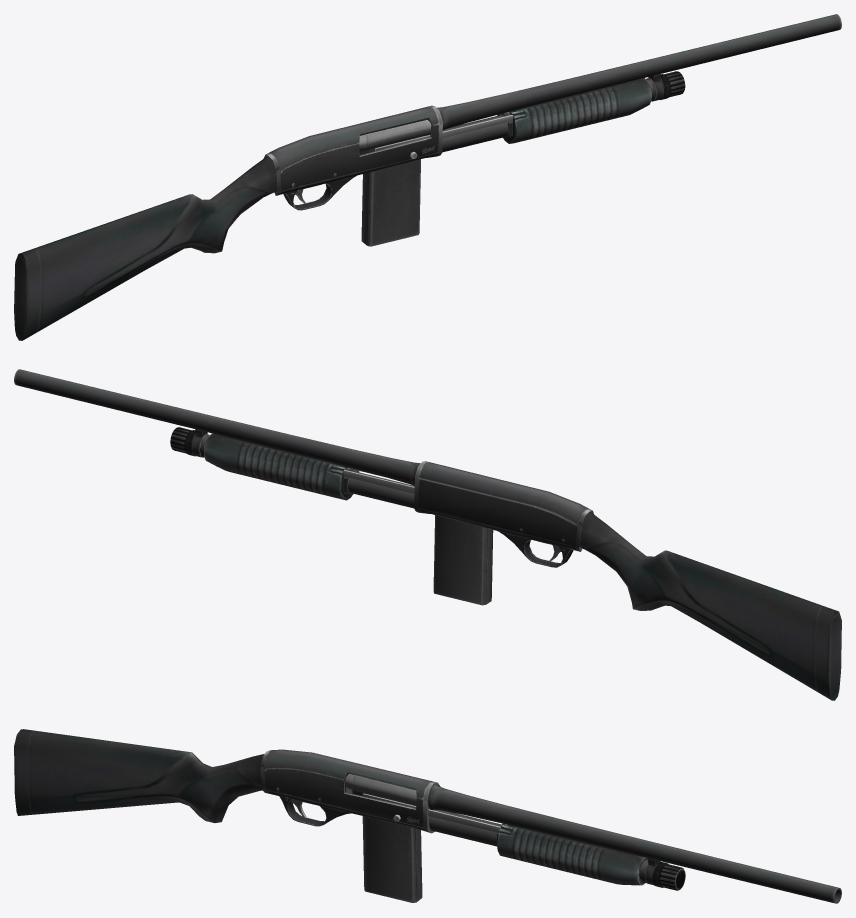
Rendered from Weapon_2005.fbx.
3 renders of one model, top to bottom at view 1: azimuth 30°, elevation 25°; view 2: azimuth 150°, elevation 25°; view 3: azimuth 330°, elevation 25°, orthographic.
Visible parts, largest first — view 1: MP_133K, MP_133K_fore_end, MP_133K_magazine; view 2: MP_133K, MP_133K_fore_end, MP_133K_magazine; view 3: MP_133K, MP_133K_fore_end, MP_133K_magazine.
Boxes of the visible parts, left/top/right/bottom form: MP_133K: left=14, top=14, right=841, bottom=340; MP_133K_fore_end: left=497, top=78, right=651, bottom=143; MP_133K_magazine: left=361, top=159, right=420, bottom=246; MP_133K: left=14, top=369, right=841, bottom=700; MP_133K_fore_end: left=204, top=433, right=359, bottom=500; MP_133K_magazine: left=433, top=515, right=493, bottom=605; MP_133K: left=14, top=729, right=841, bottom=903; MP_133K_fore_end: left=496, top=823, right=647, bottom=885; MP_133K_magazine: left=362, top=816, right=422, bottom=902.
Size of the model in its own units: 127 by 20.1 by 5.31.
